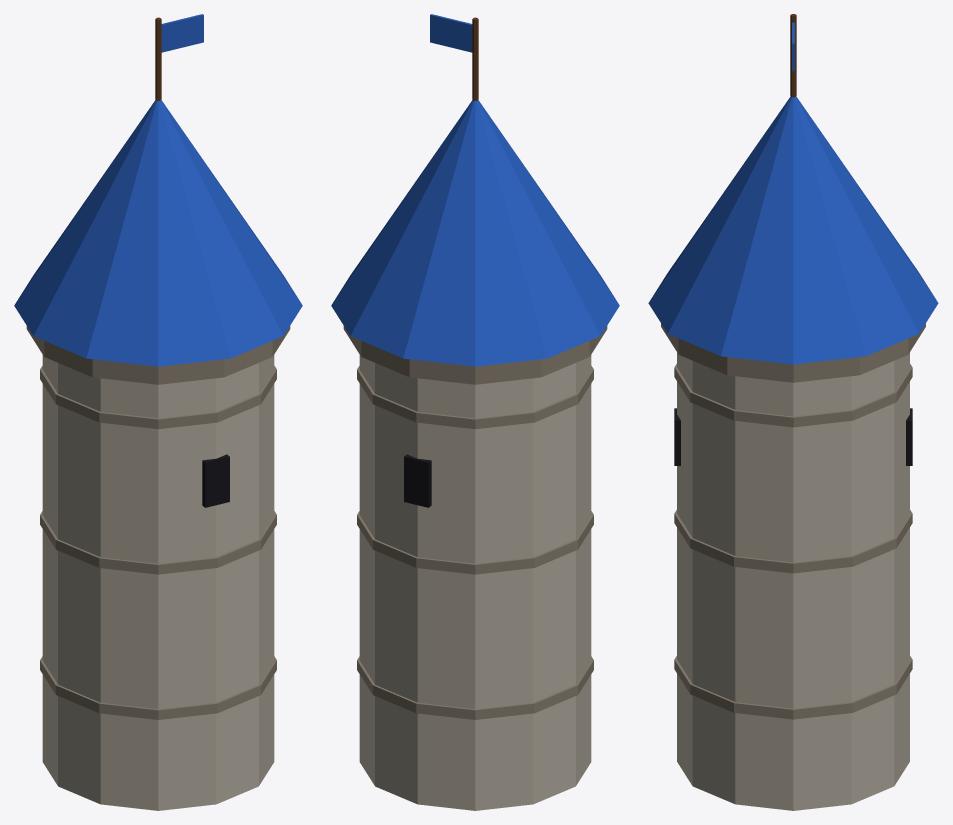
The model's file is tower_blue.fbx.
3 renders of one model, left to right at view 1: azimuth 30°, elevation 25°; view 2: azimuth 150°, elevation 25°; view 3: azimuth 270°, elevation 25°, orthographic.
Visible parts, largest first — view 1: tower_blue_Main; view 2: tower_blue_Main; view 3: tower_blue_Main.
Part boxes in pixels (x1,y1,x2,y2): tower_blue_Main: [14, 14, 302, 810]; tower_blue_Main: [331, 14, 619, 810]; tower_blue_Main: [648, 14, 938, 810].
Size of the model in its own units: 3.24 by 9.2 by 3.24.
